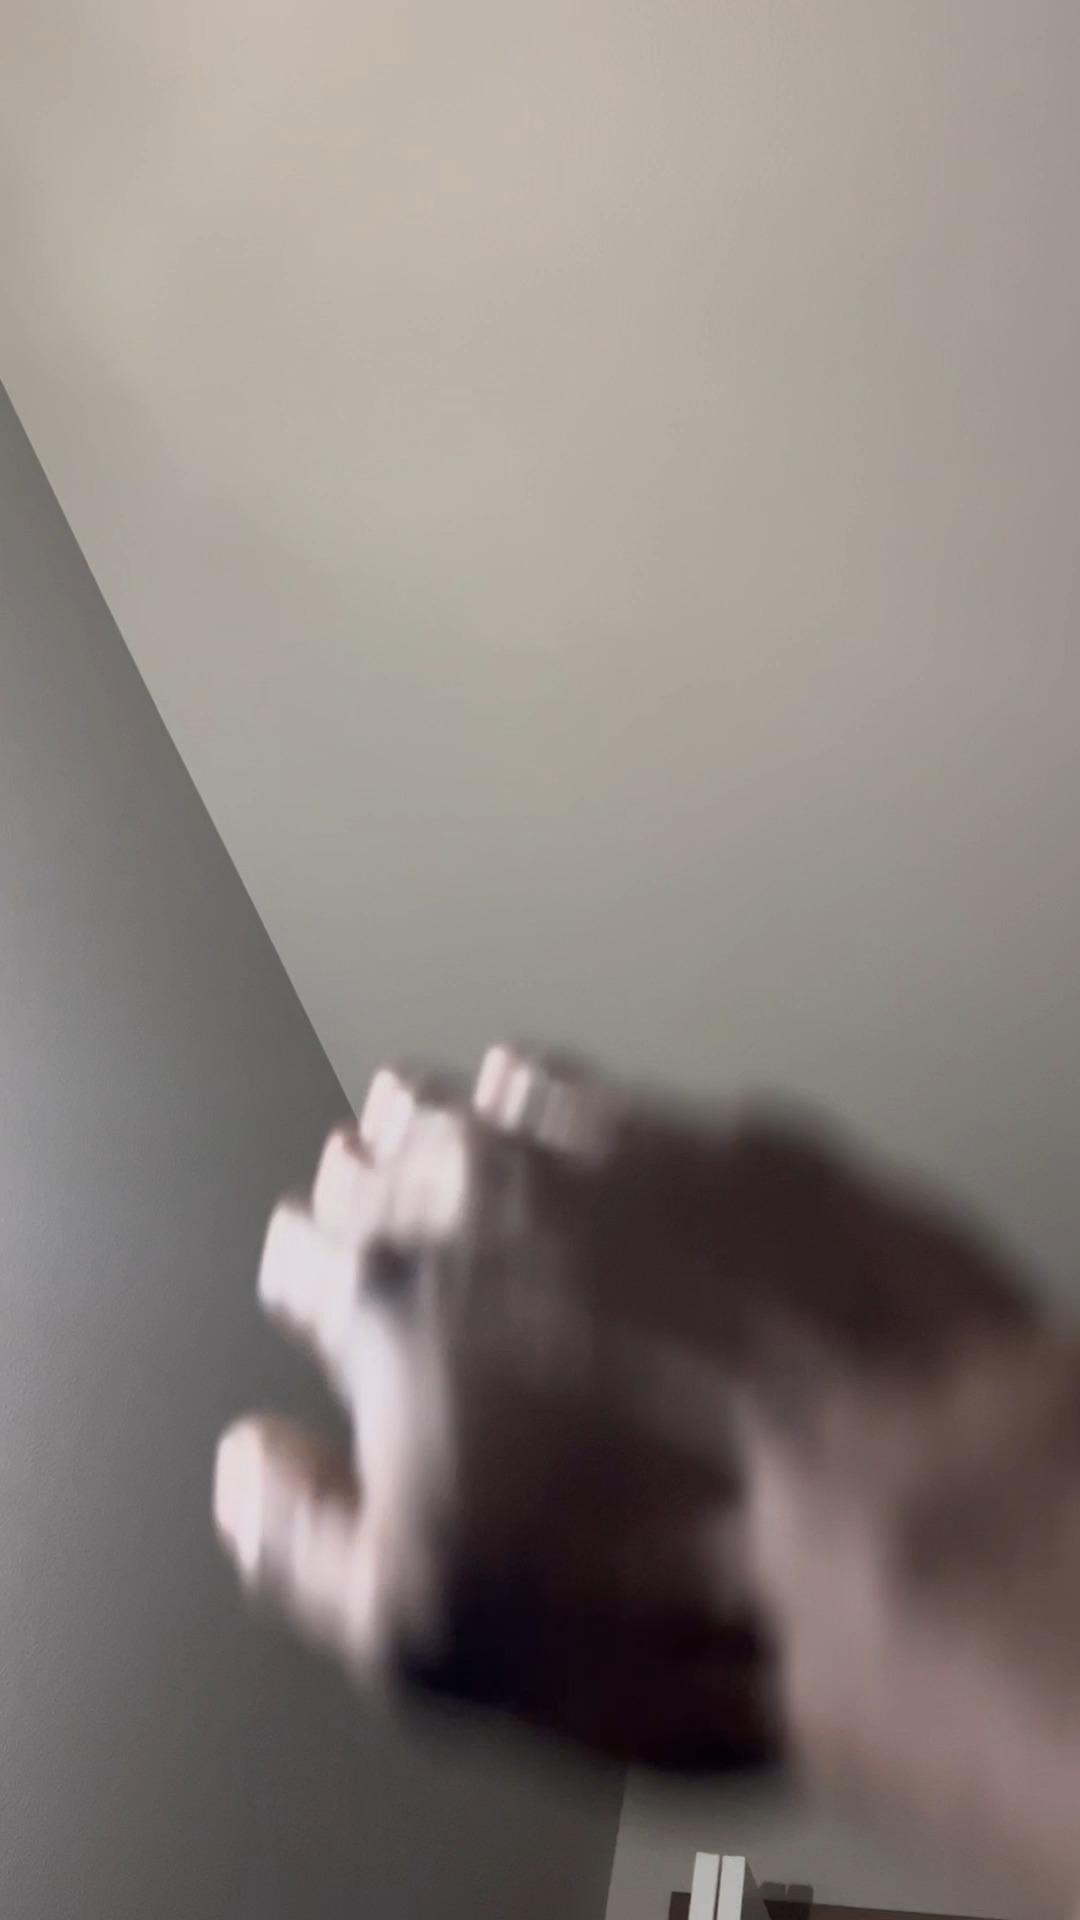Paper: (190, 1036, 1029, 1813)
